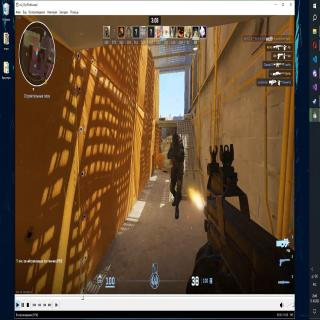CT-Body: (165, 130, 186, 222)
CT-Head: (171, 132, 181, 147)
